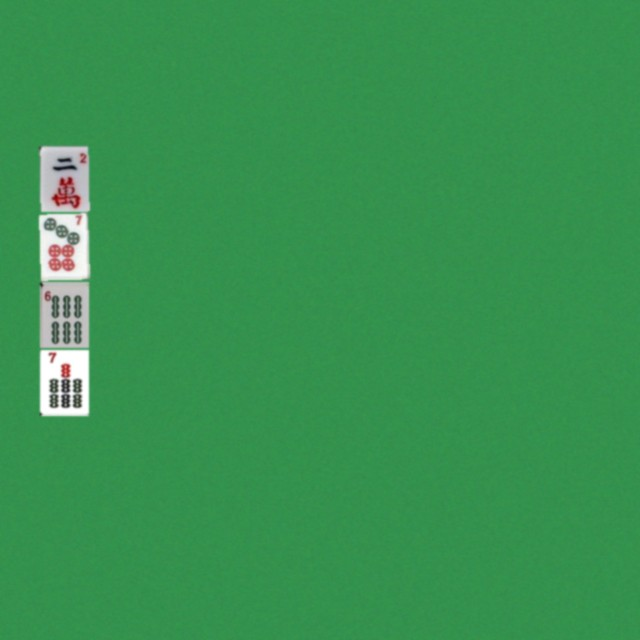tile: (39, 145, 88, 211), (39, 213, 88, 279), (39, 281, 88, 347), (39, 349, 88, 415)
